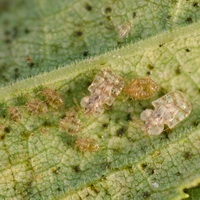insect: (140, 91, 191, 134)
